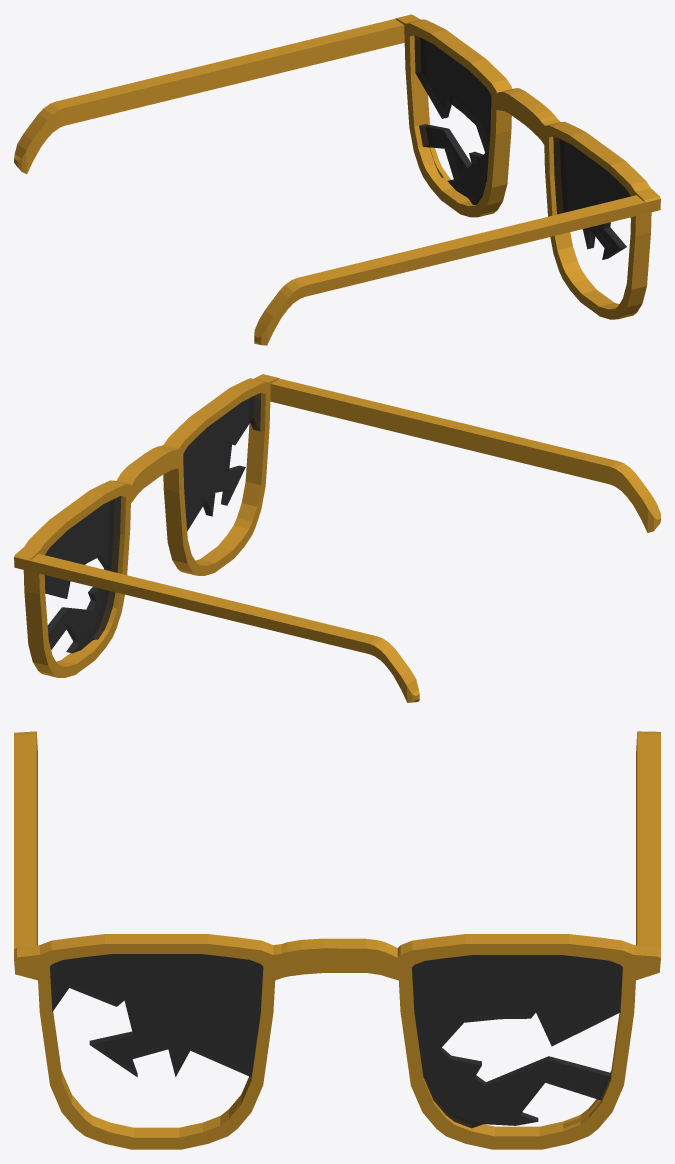
Rendered from gafas3.fbx.
The picture shows the model from 3 angles, top to bottom: view 1: azimuth 30°, elevation 25°; view 2: azimuth 150°, elevation 25°; view 3: azimuth 270°, elevation 25°; orthographic projection. The views are drawn at different scales.
Visible parts, largest first — view 1: glasses3:Mesh; view 2: glasses3:Mesh; view 3: glasses3:Mesh.
Boxes of the visible parts, x1,y1,x2,y2 form: glasses3:Mesh: (14, 14, 660, 345); glasses3:Mesh: (14, 374, 660, 702); glasses3:Mesh: (14, 731, 660, 1149).
Bounding box in the file's own units: 6.27 × 2.38 × 6.79.
